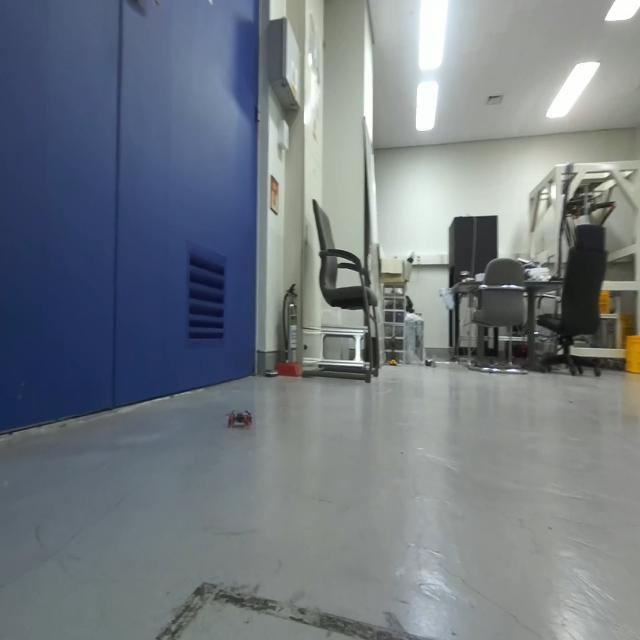crazyflie: (222, 402, 256, 436)
